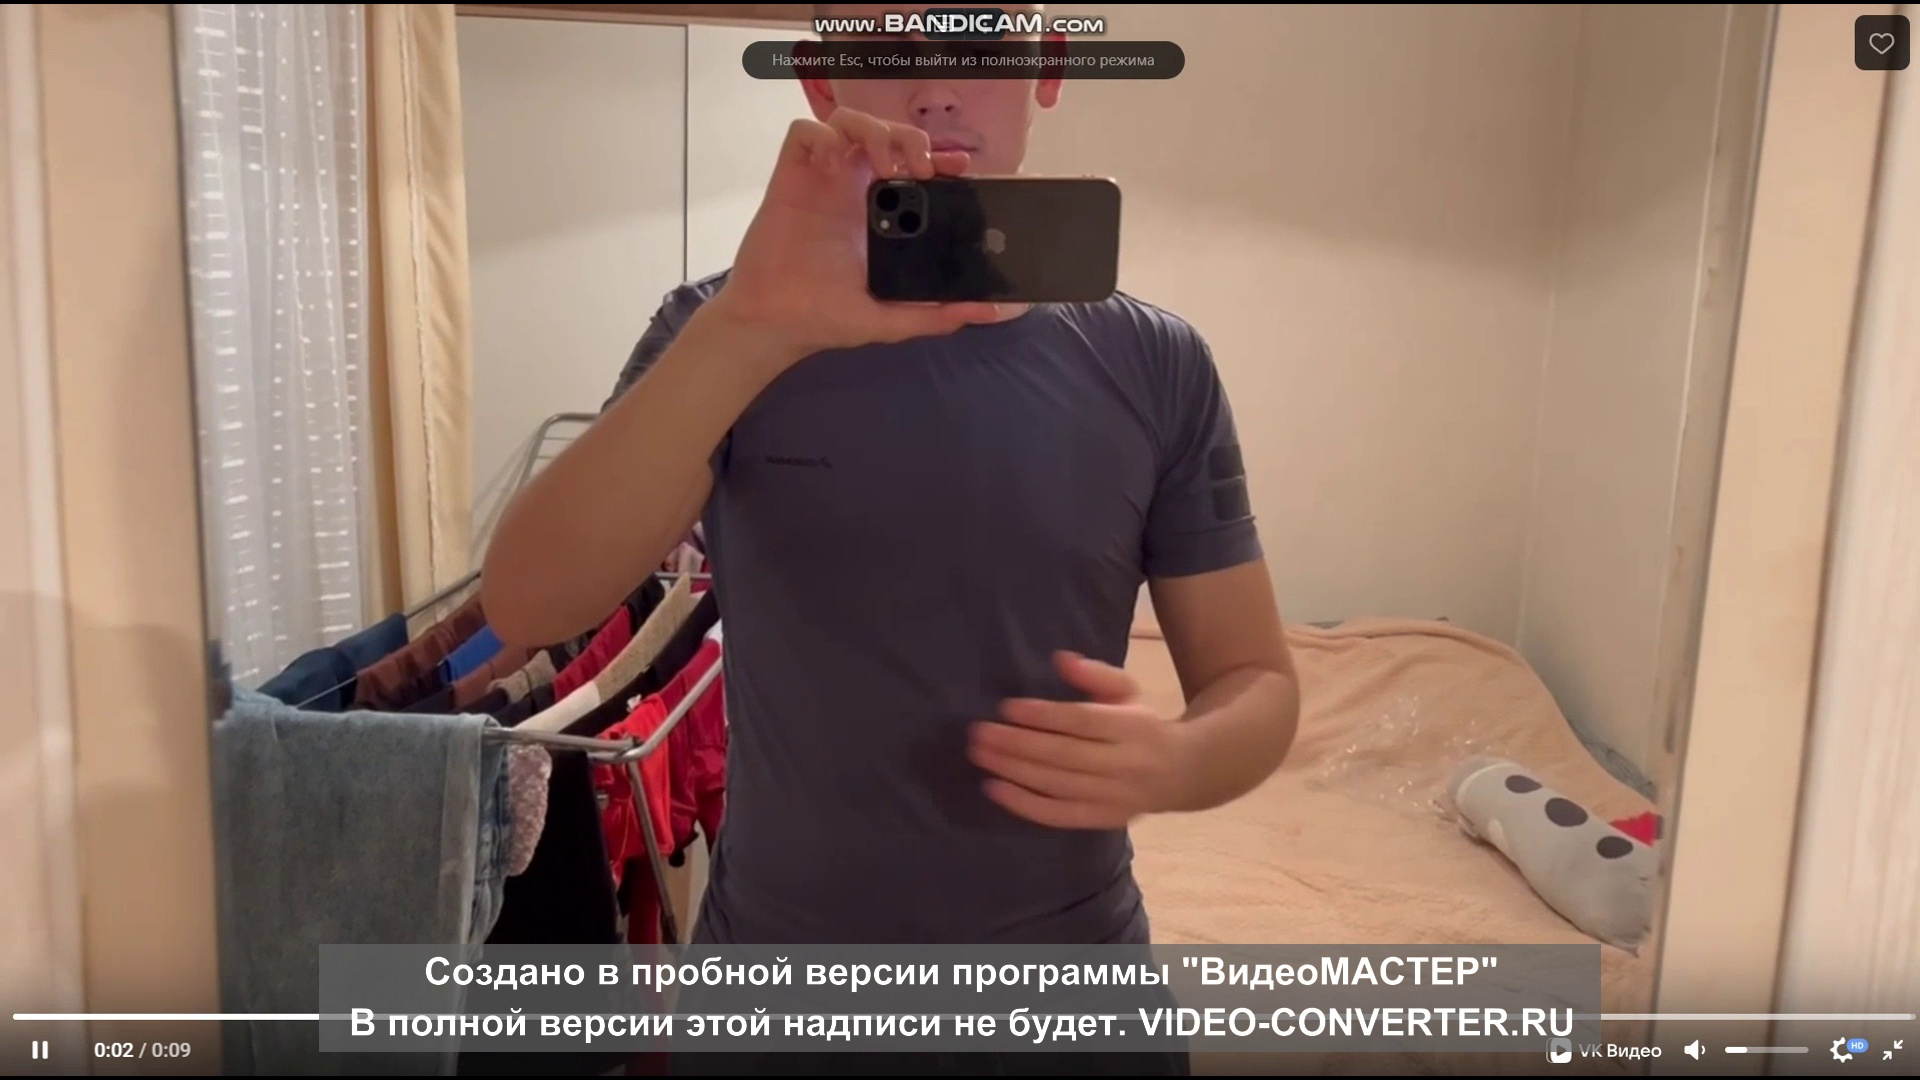Кисть: (964, 633, 1163, 835)
